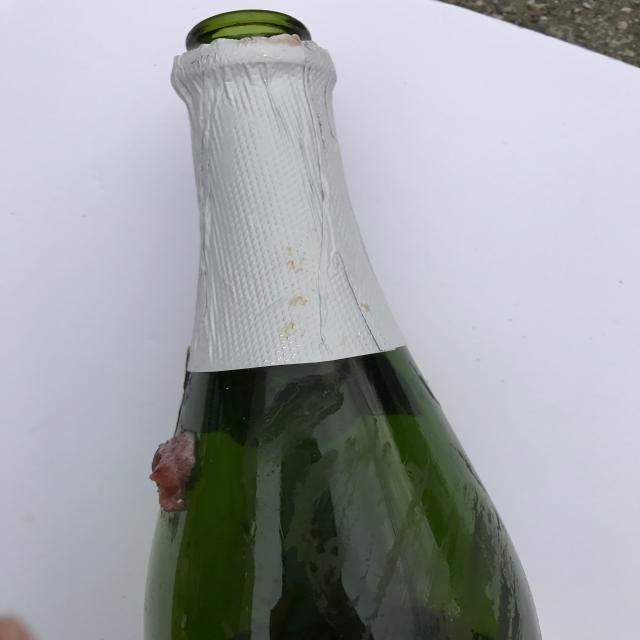glass: (136, 9, 543, 640)
